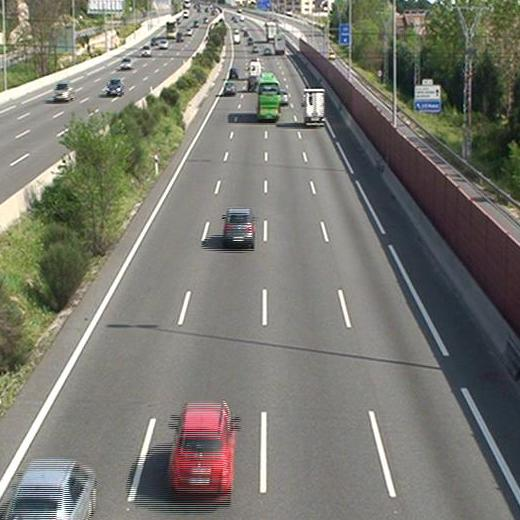bus: (257, 72, 282, 120)
car: (170, 404, 237, 492), (8, 459, 95, 520), (223, 208, 255, 245), (223, 83, 236, 96), (229, 66, 239, 79), (249, 77, 258, 91), (280, 90, 289, 102)
small-truck: (303, 89, 325, 126)
van: (249, 61, 262, 74)
